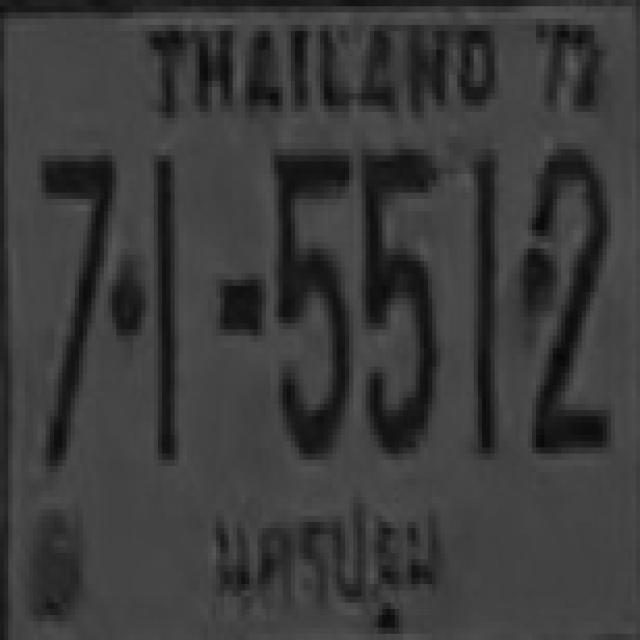1: (468, 149, 497, 441)
2: (519, 143, 618, 456)
5: (270, 146, 355, 460), (358, 143, 442, 452)
7: (38, 149, 112, 454)
NakhonPathom: (194, 480, 443, 634)
